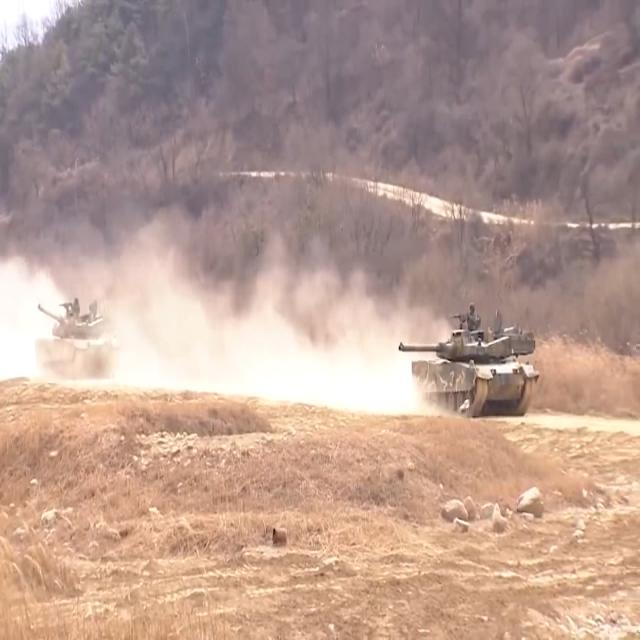korea tank: (398, 300, 540, 418)
